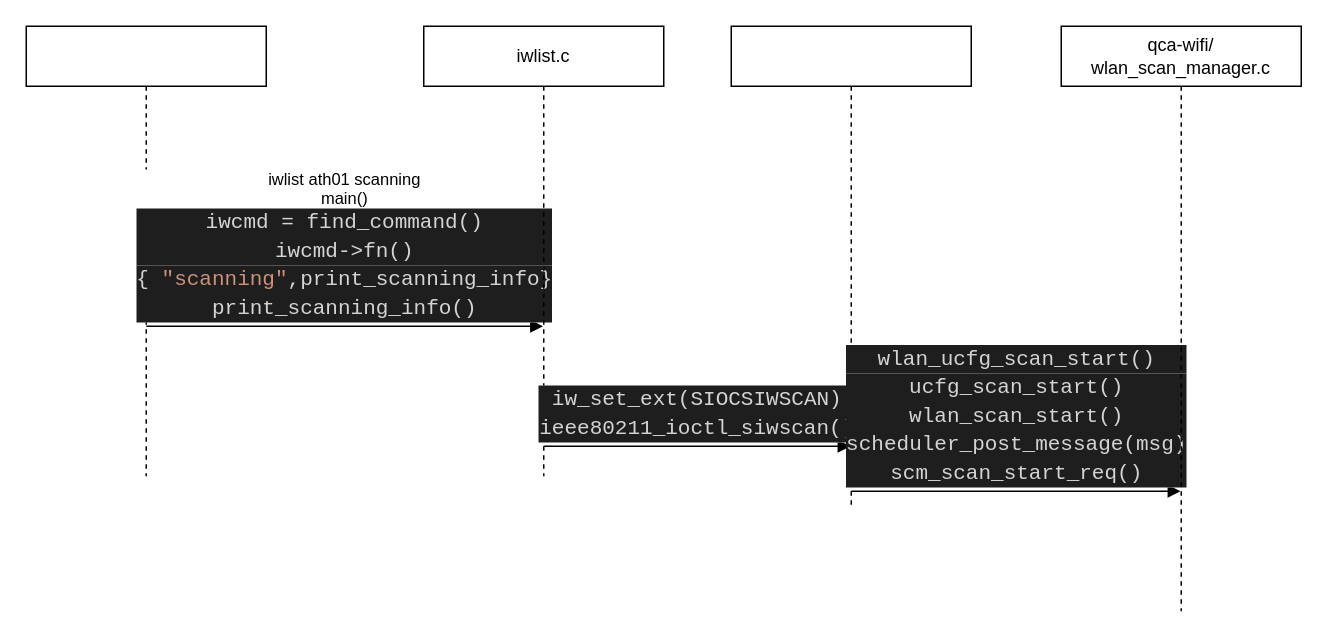
Image size: 1328x638. Some labels were removed from this diagram. Here are the shapes that lost their labels. From the top down, the box of each, then its label:
(25, 25, 266, 476): iwlist
(730, 25, 971, 506): qca-wifi/ ieee80211_wireless.c
